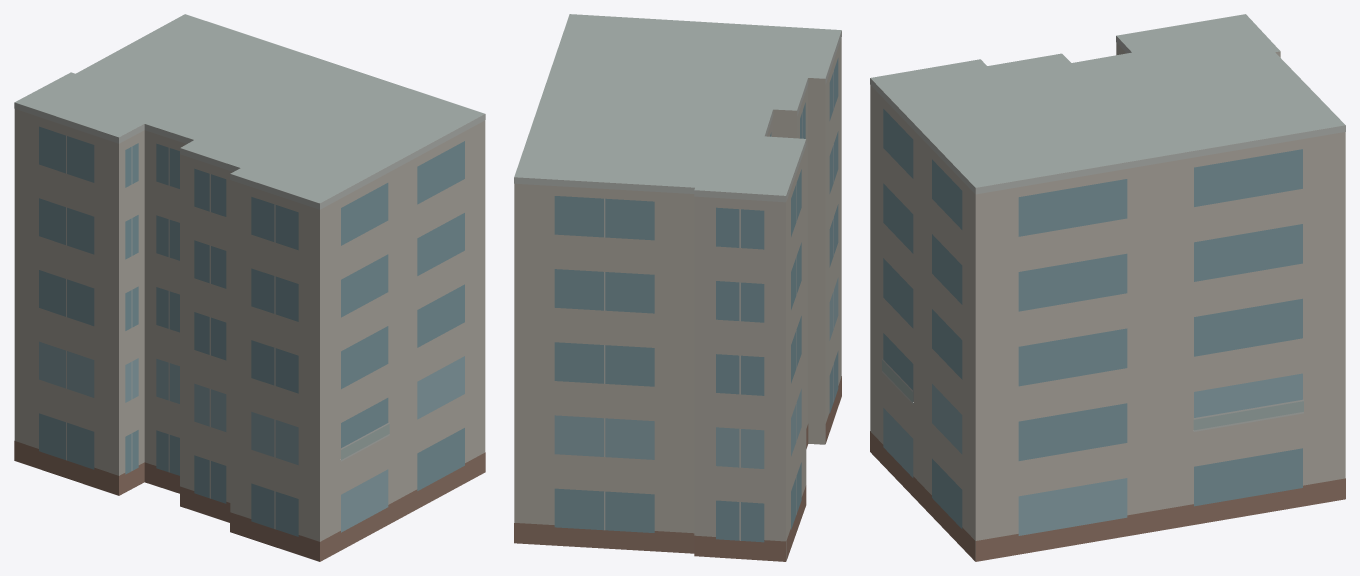
Rendered from survey-upis-32944736.glb.
3 renders of one model, left to right at view 1: azimuth 30°, elevation 25°; view 2: azimuth 150°, elevation 25°; view 3: azimuth 270°, elevation 25°, orthographic. The views are drawn at different scales.
Parts seen in each view (by area): view 1: survey-upis-32944736.tmp; view 2: survey-upis-32944736.tmp; view 3: survey-upis-32944736.tmp.
Part boxes in pixels (left/top/right/bottom): survey-upis-32944736.tmp: left=14, top=14, right=485, bottom=561; survey-upis-32944736.tmp: left=514, top=14, right=841, bottom=561; survey-upis-32944736.tmp: left=870, top=14, right=1345, bottom=561.
Size of the model in its own units: 13.87 by 13.9 by 16.03.
